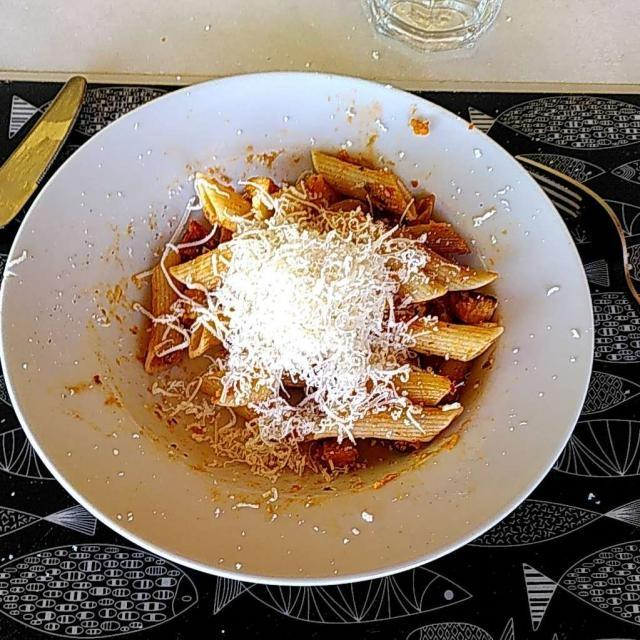cheese: (209, 232, 410, 429)
pasta: (137, 149, 505, 451)
